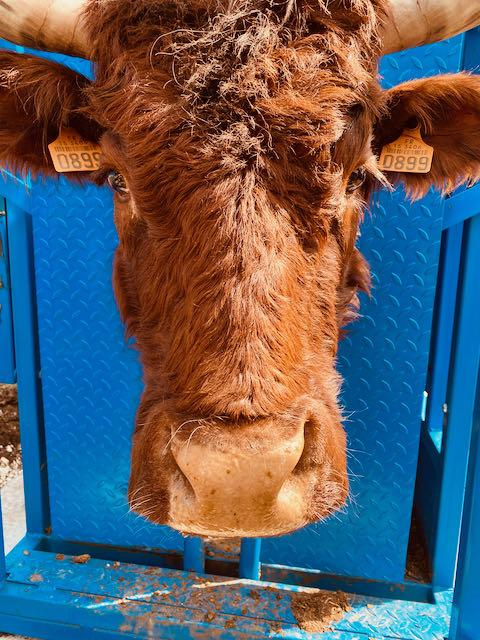muzzles: (100, 403, 369, 547)
